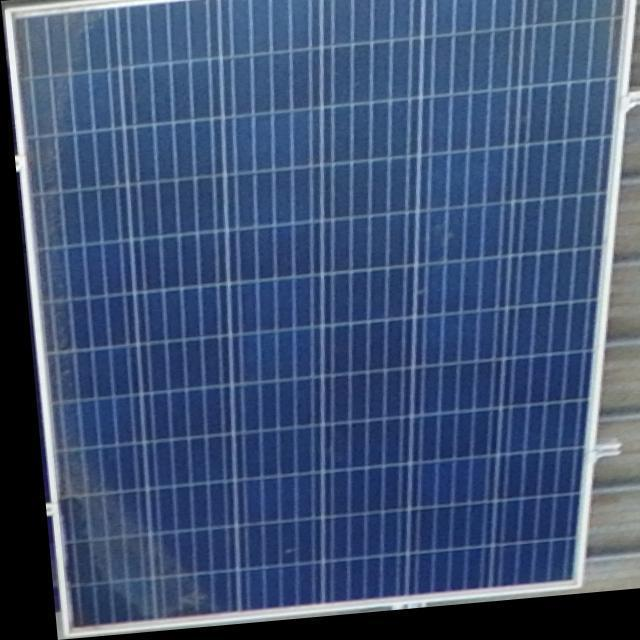Surface Contaminant: (10, 6, 104, 447), (51, 432, 242, 634)
